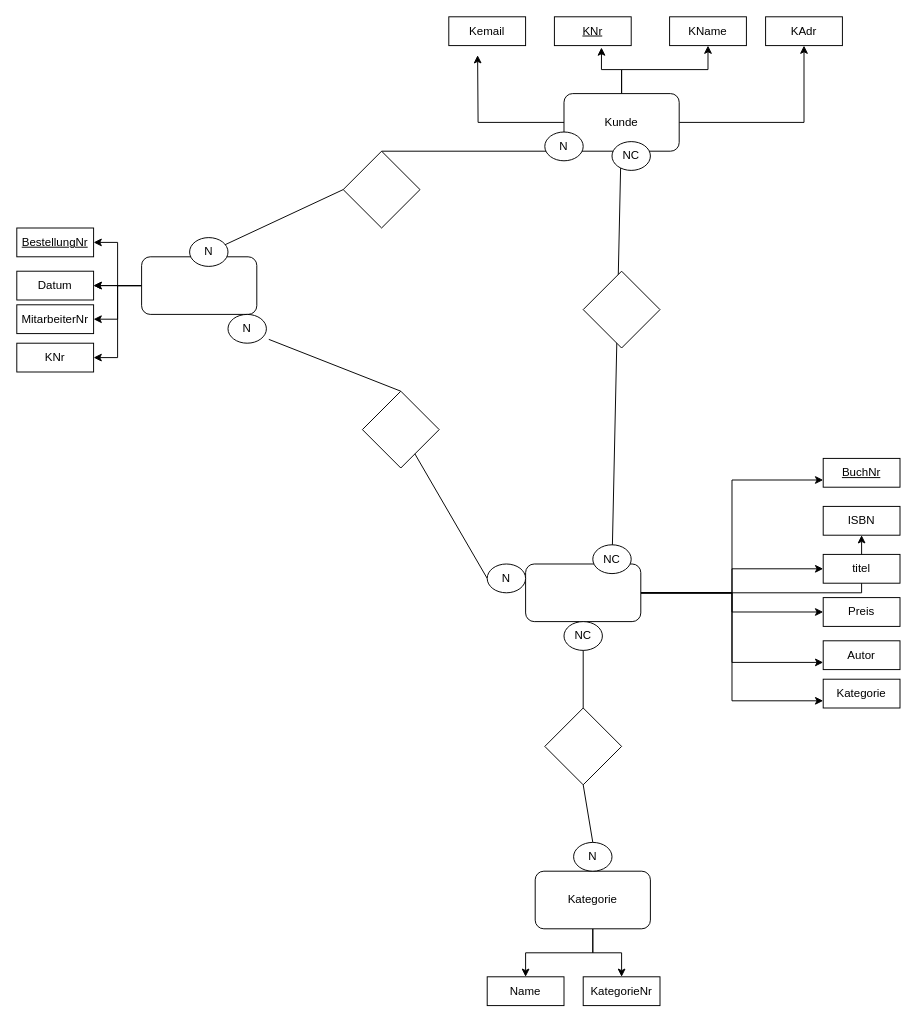
Image size: 917x1022. Some labels were removed from this diagram. Here are the shapes that lost their labels. From the top down, the centre of each, then its label:
pixel 381 189: macht
pixel 199 285: Bestellung
pixel 621 309: bestellt
pixel 400 429: gehört
pixel 583 592: Buch
pixel 583 746: katoriesiert
